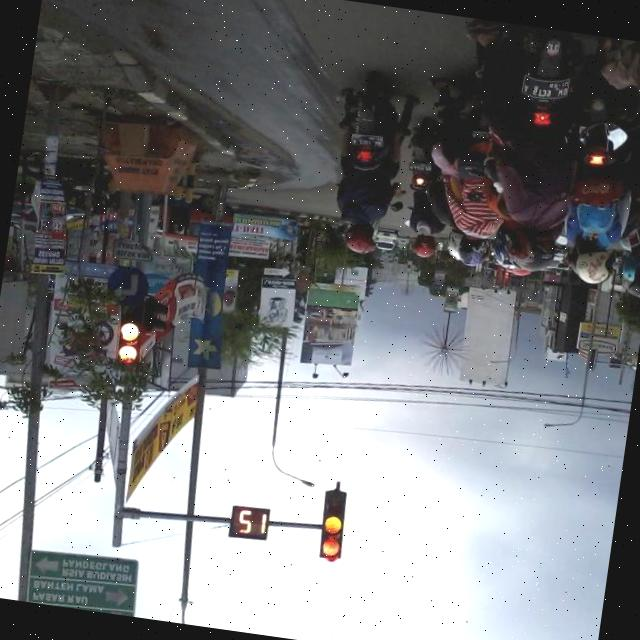yellow_light: (289, 466, 373, 594), (96, 286, 168, 391)
